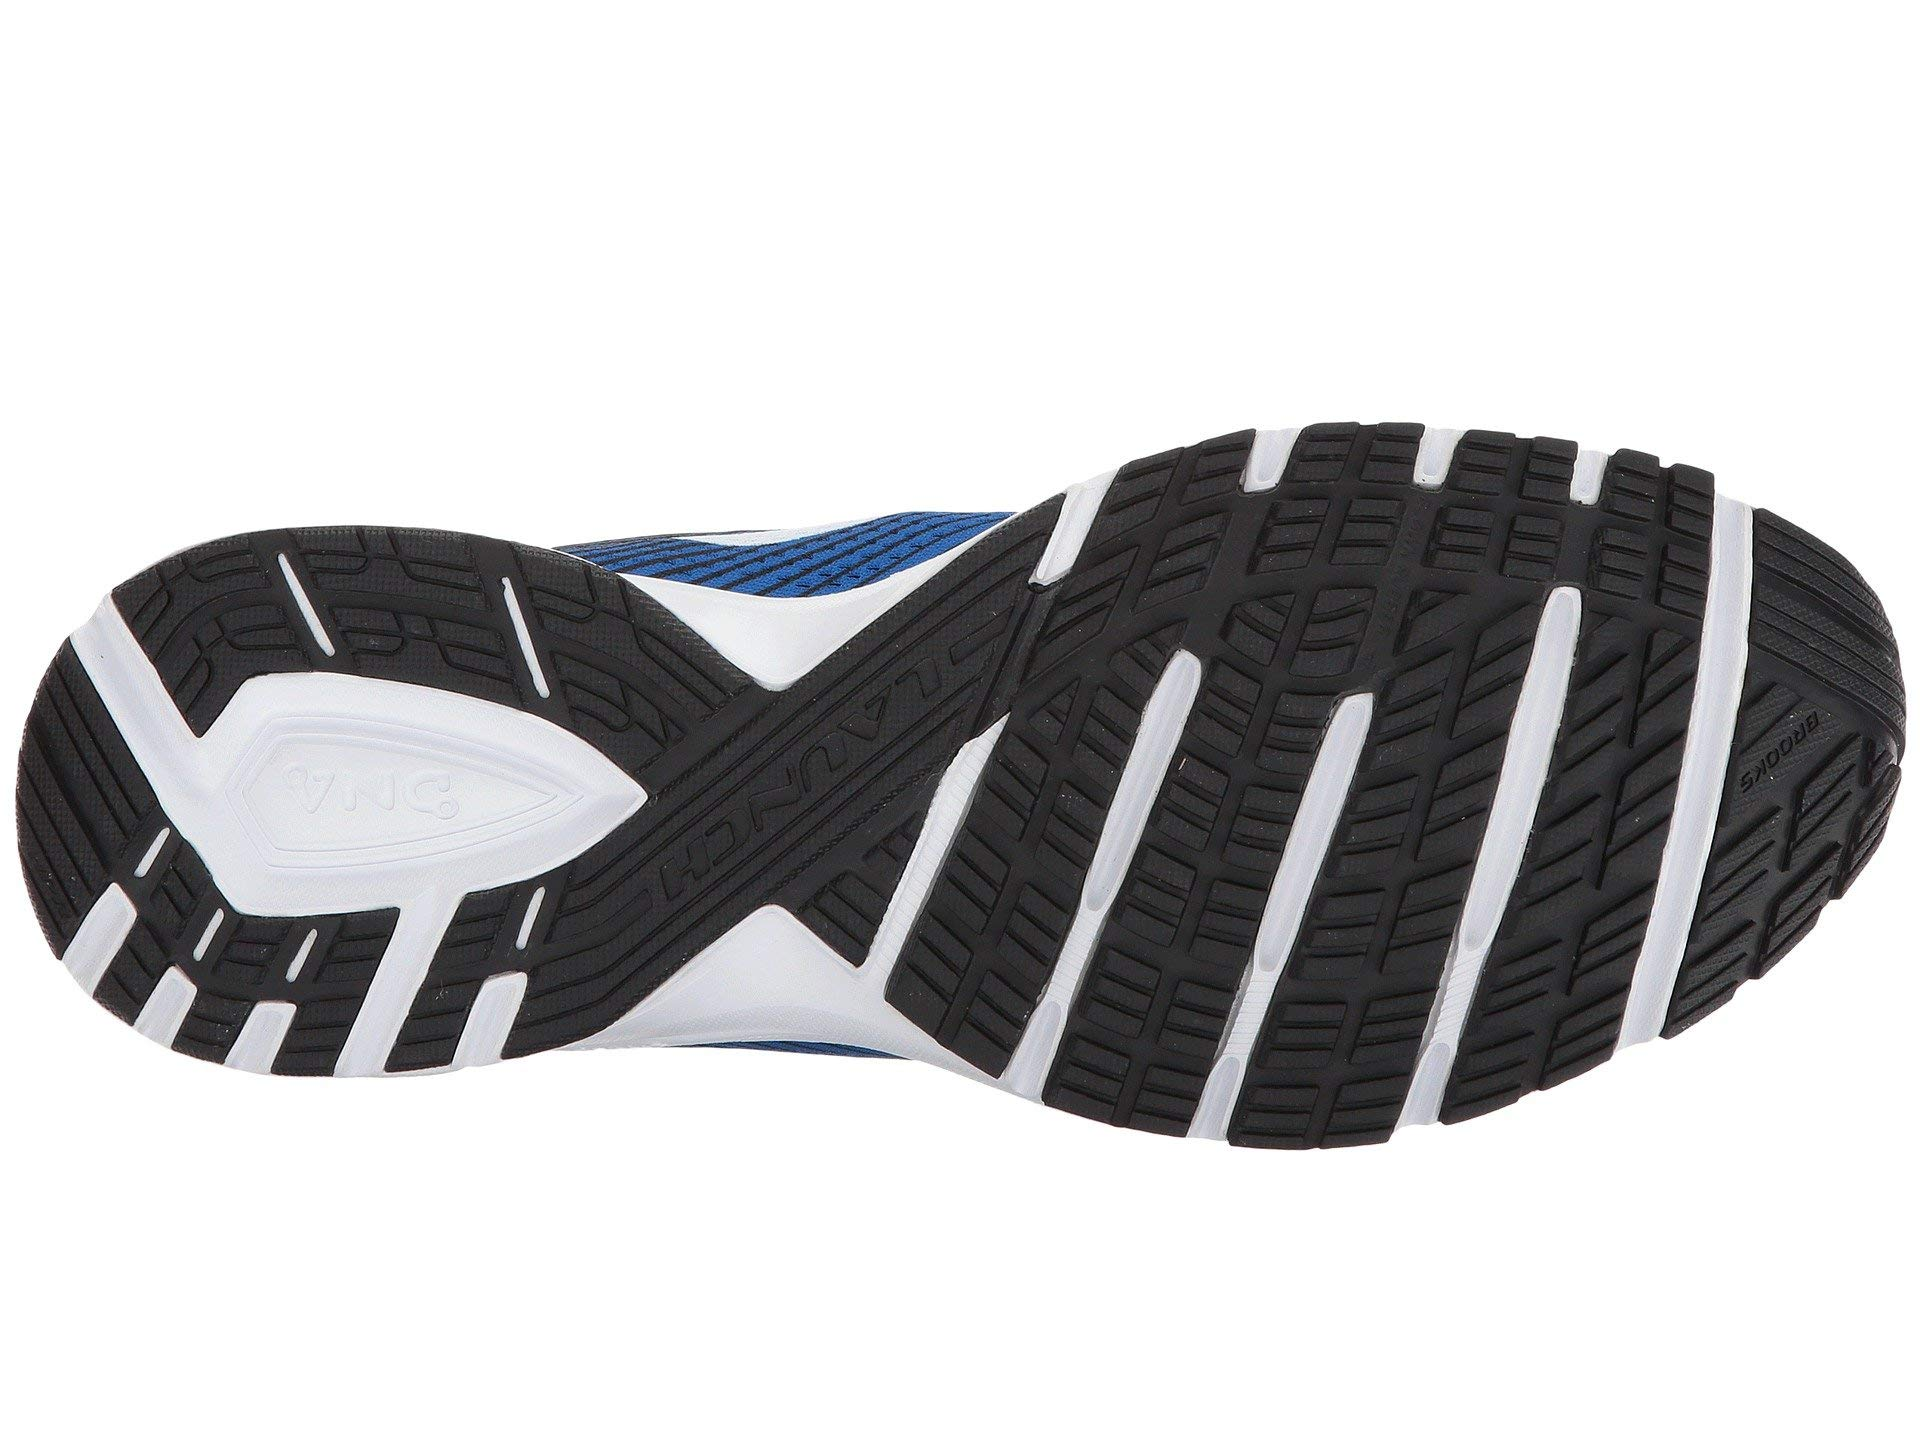circle: (231, 691, 531, 871)
quad: (1169, 647, 1683, 1029), (1238, 467, 1733, 625), (314, 889, 529, 1057), (316, 560, 546, 703), (1010, 658, 1126, 793), (1704, 835, 1828, 948), (1138, 498, 1238, 632), (865, 808, 945, 905)
text: (231, 691, 531, 871), (1730, 702, 1841, 811)
triangle: (1238, 467, 1733, 625), (1010, 658, 1126, 793), (865, 808, 945, 905)
